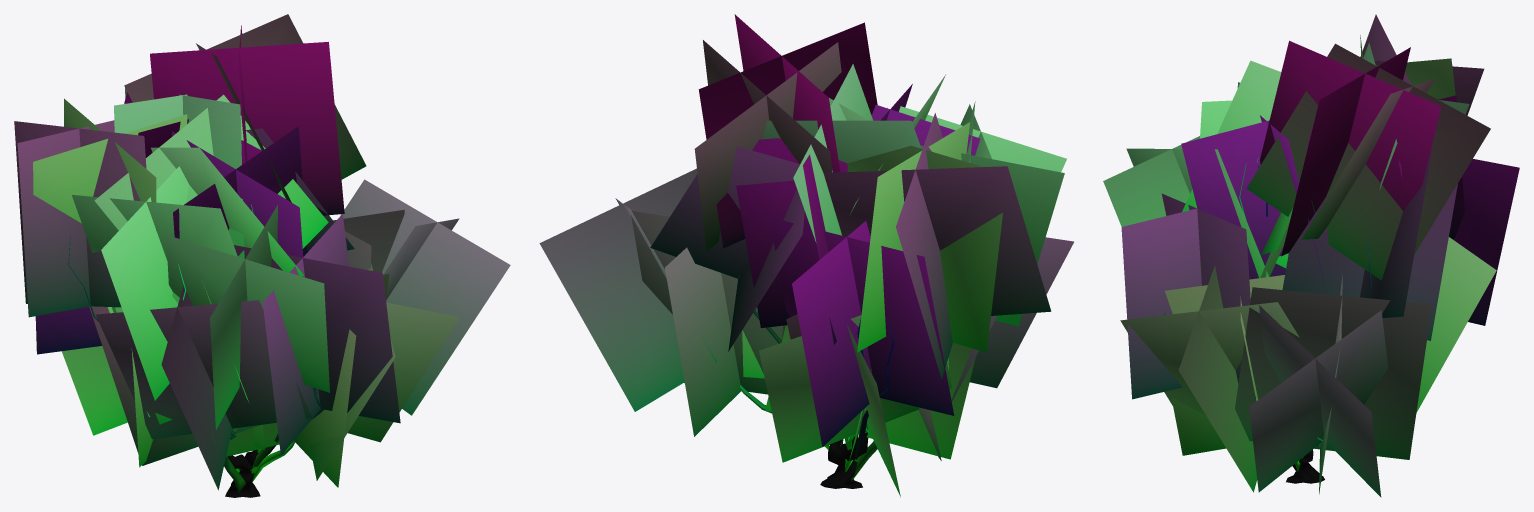
Rendered from M_P1_Tree_10.fbx.
3 views of the same model, side by side, from view 1: azimuth 30°, elevation 25°; view 2: azimuth 150°, elevation 25°; view 3: azimuth 270°, elevation 25° (orthographic). The views are drawn at different scales.
Parts seen in each view (by area): view 1: M_Tree_1_10; view 2: M_Tree_1_10; view 3: M_Tree_1_10.
Boxes of the visible parts, <box> form: M_Tree_1_10: <box>14,14,510,497</box>; M_Tree_1_10: <box>539,14,1073,497</box>; M_Tree_1_10: <box>1103,14,1519,497</box>.
Bounding box in the file's own units: 804 × 724 × 634.
